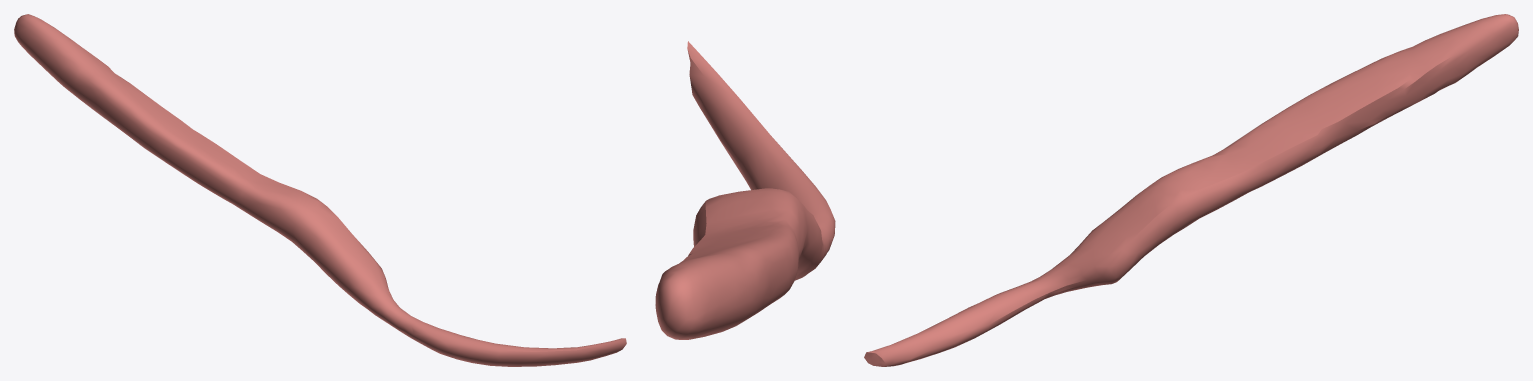
File: fma37744_mm1748.glb
The picture shows the model from 3 angles, left to right: view 1: azimuth 30°, elevation 25°; view 2: azimuth 150°, elevation 25°; view 3: azimuth 270°, elevation 25°; orthographic projection. The views are drawn at different scales.
Visible parts, largest first — view 1: FMA37744_MM1748; view 2: FMA37744_MM1748; view 3: FMA37744_MM1748.
Boxes of the visible parts, box(x1,y1,x2,y2) form: FMA37744_MM1748: box(14, 14, 626, 366); FMA37744_MM1748: box(655, 41, 835, 339); FMA37744_MM1748: box(864, 14, 1518, 366).
Size of the model in its own units: 0.0288 by 0.0188 by 0.0501.
